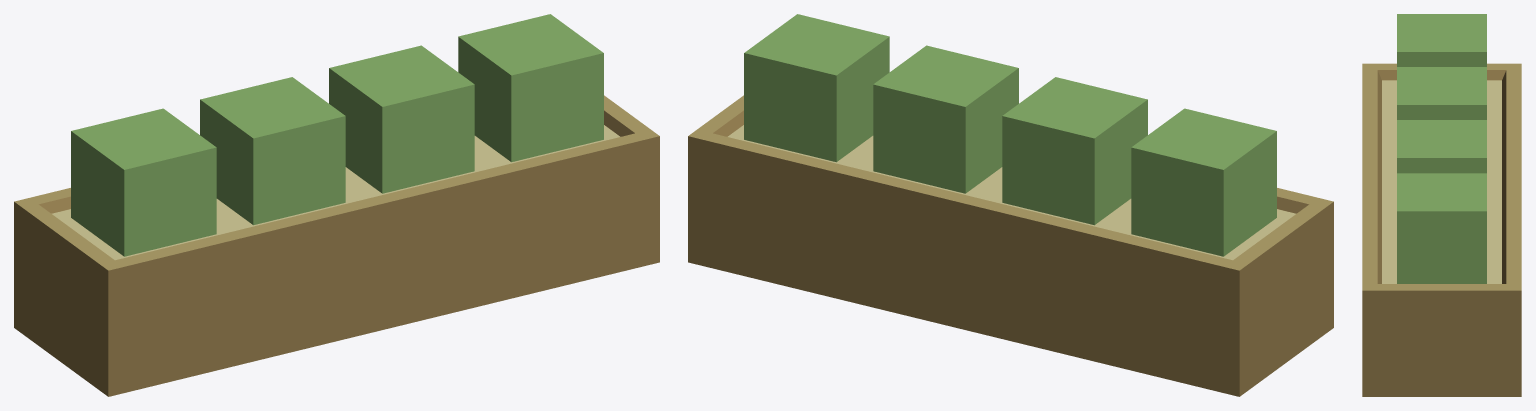
File: Flower_Bed1.glb
The picture shows the model from 3 angles, left to right: view 1: azimuth 30°, elevation 25°; view 2: azimuth 150°, elevation 25°; view 3: azimuth 270°, elevation 25°; orthographic projection. The views are drawn at different scales.
Parts seen in each view (by area): view 1: huitugou_2443_2670; view 2: huitugou_2443_2670; view 3: huitugou_2443_2670.
Boxes of the visible parts, <box> form: huitugou_2443_2670: <box>14,14,659,396</box>; huitugou_2443_2670: <box>688,14,1333,396</box>; huitugou_2443_2670: <box>1362,14,1521,396</box>.
Bounding box in the file's own units: 0.7243 × 0.2548 × 0.2148.
1 material, 1 textured.
